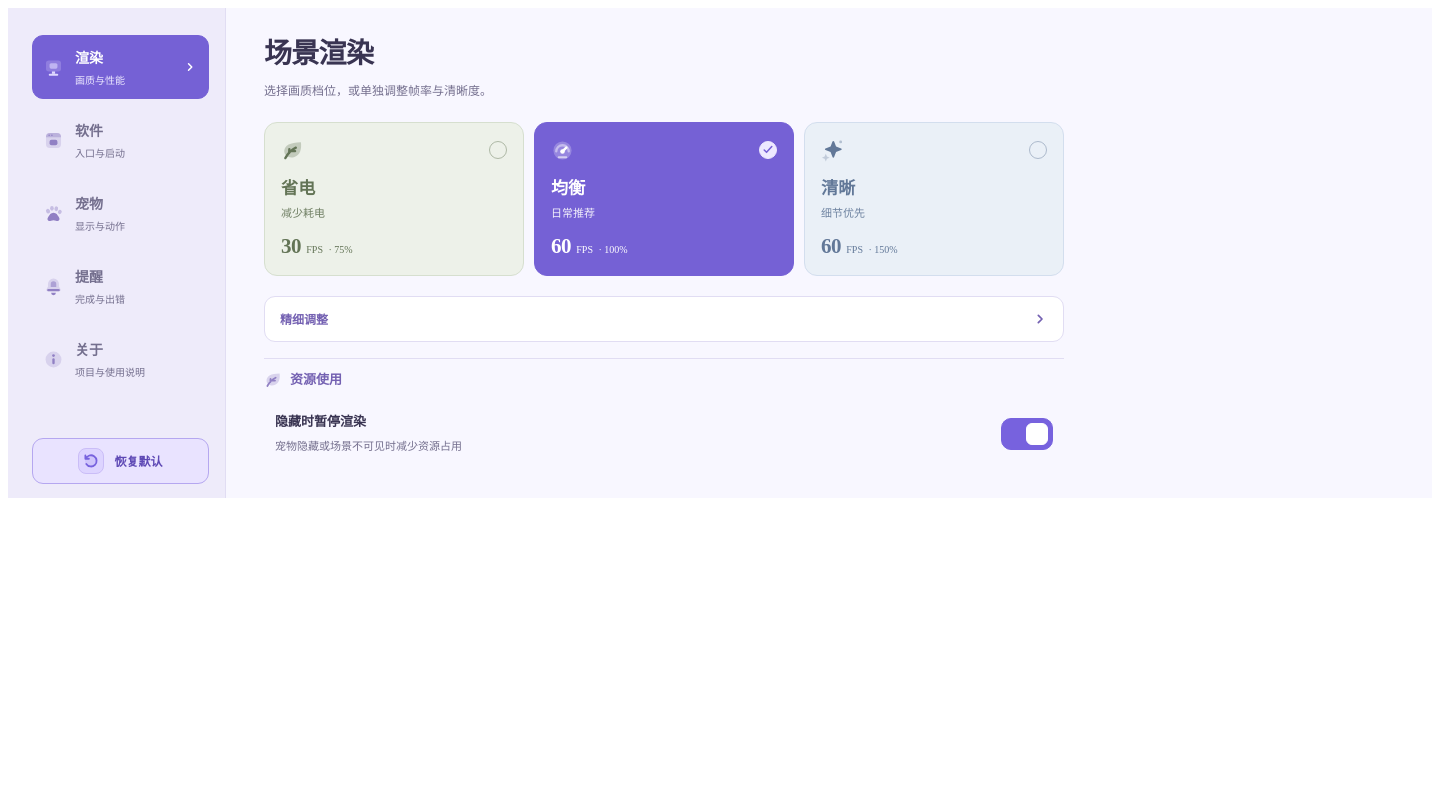
Test: formal preference controls › waits for the real reset and keeps a rejected reset recoverable without a success notice
The width and height of the screenshot is (1440, 810).
Click the button "恢复默认".
click(120, 461)  # box [32,438,209,484]
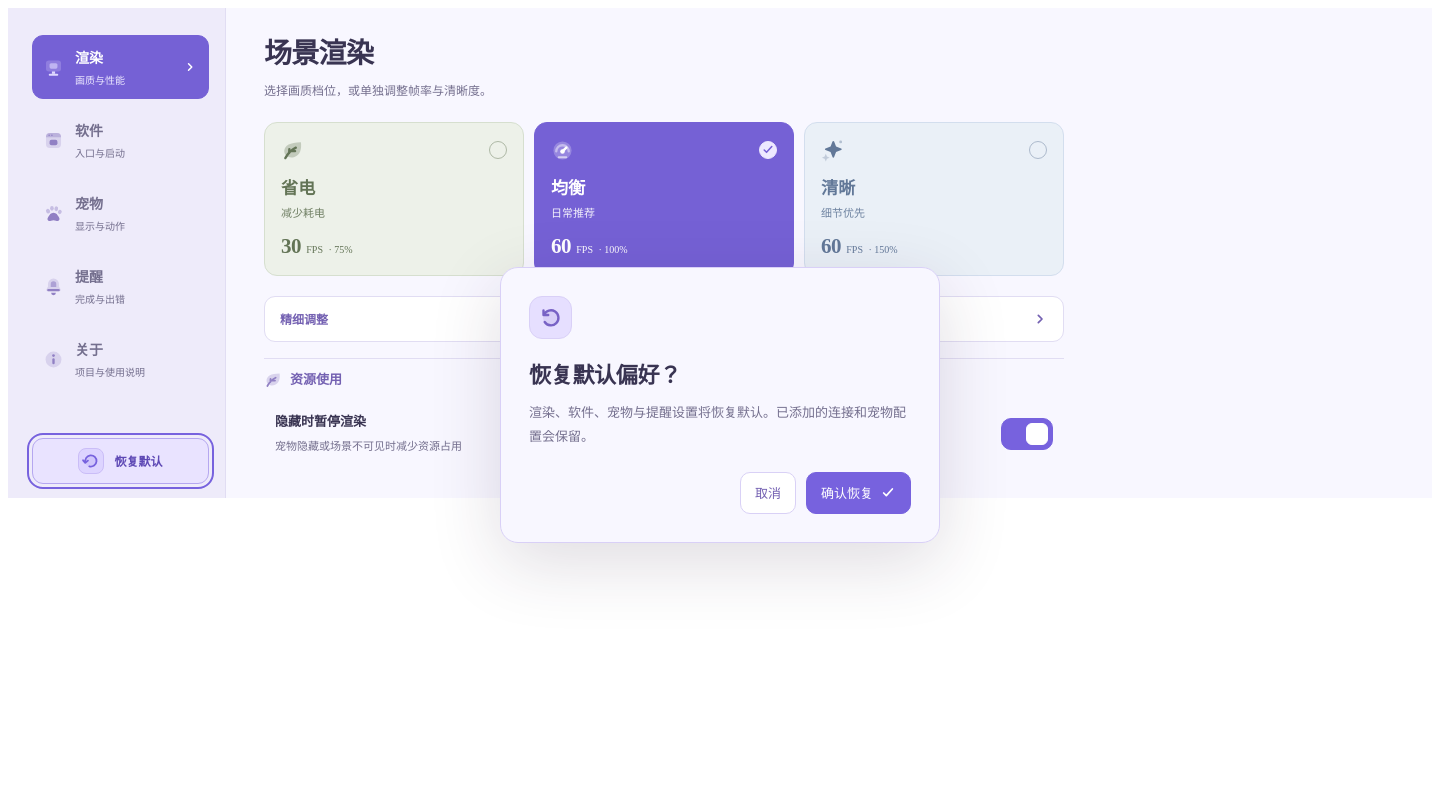
Click the button "确认恢复".
click(858, 493)  # box [806,472,911,514]
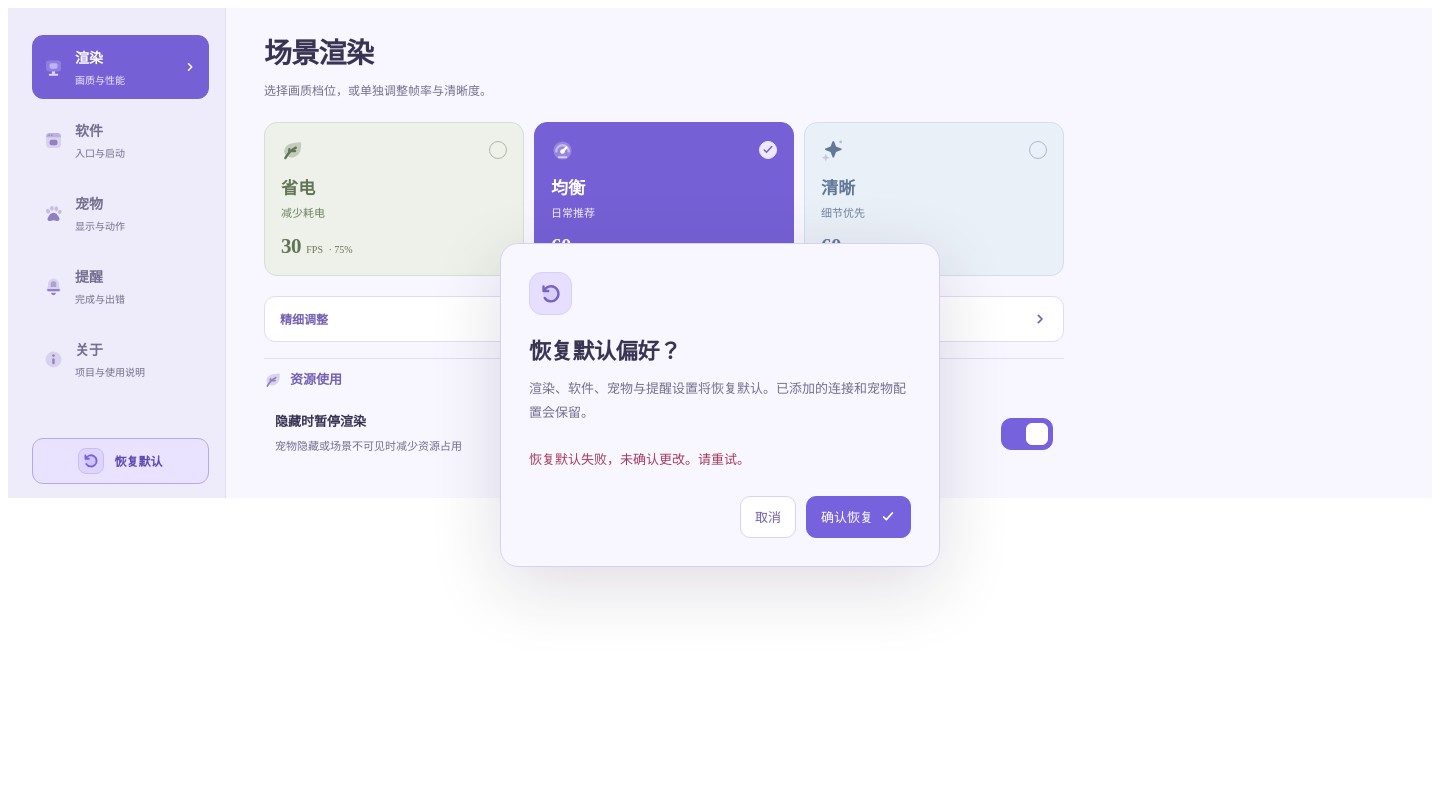
Expected: the text "所有偏好已恢复默认。" is not shown
Expected: the dialog is shown, [500,243,940,567]
Expected: the message shows "恢复默认失败", [529,452,750,467]
Click the button "确认恢复".
click(858, 517)  # box [806,496,911,538]
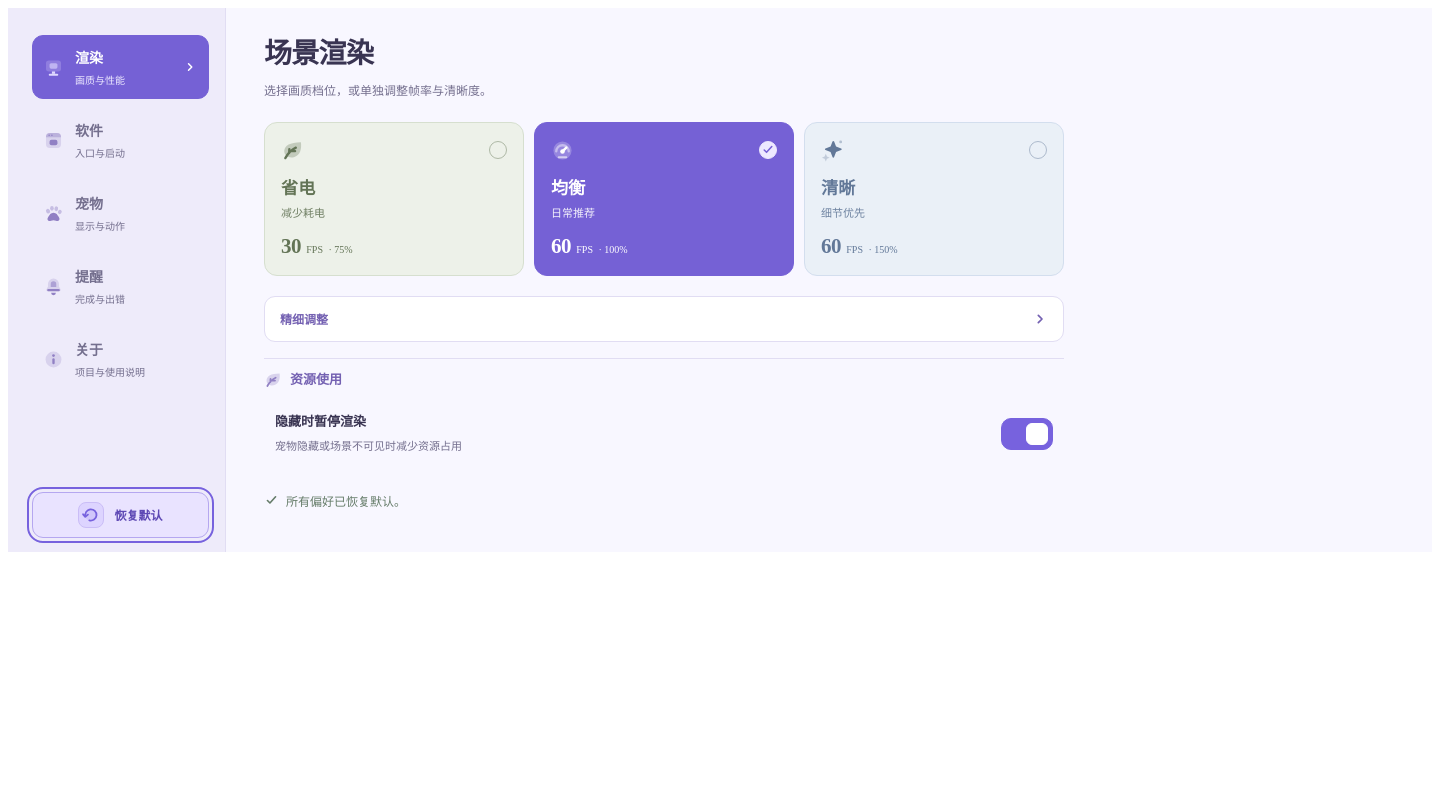
Expected: the dialog is gone
Expected: the message reads "所有偏好已恢复默认。", [286,495,406,509]
